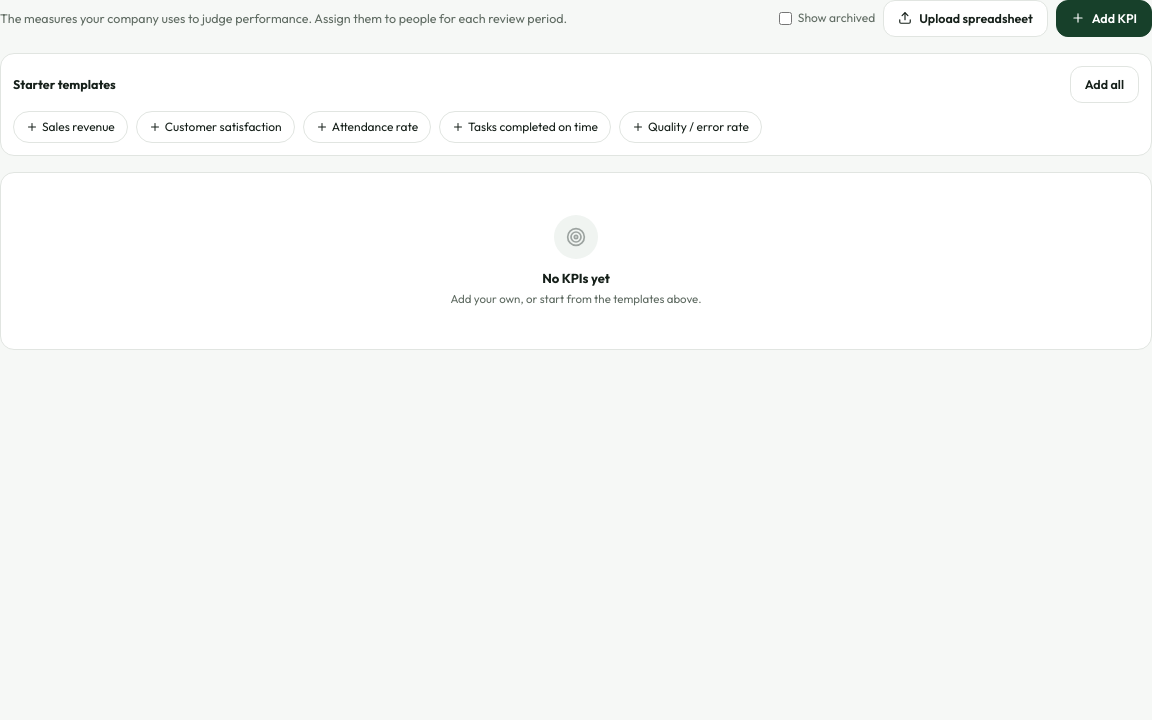
Test: KPI library › a KPI calculated from tasks takes its unit and direction from the measure
Later steps or results of the test are not shown.
Click the button "Add KPI" at (1104, 18), box left=1056, top=0, right=1151, bottom=37
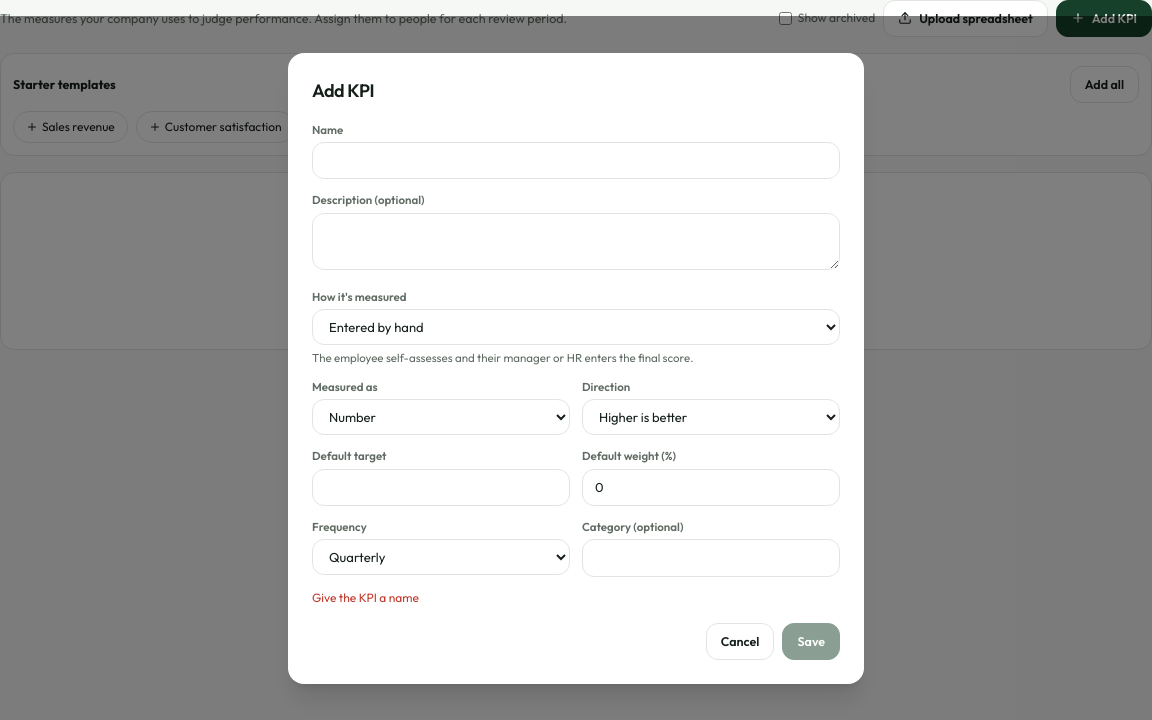
Type "Late tasks" into the field labelled "Name" at (576, 161), box left=312, top=142, right=840, bottom=179
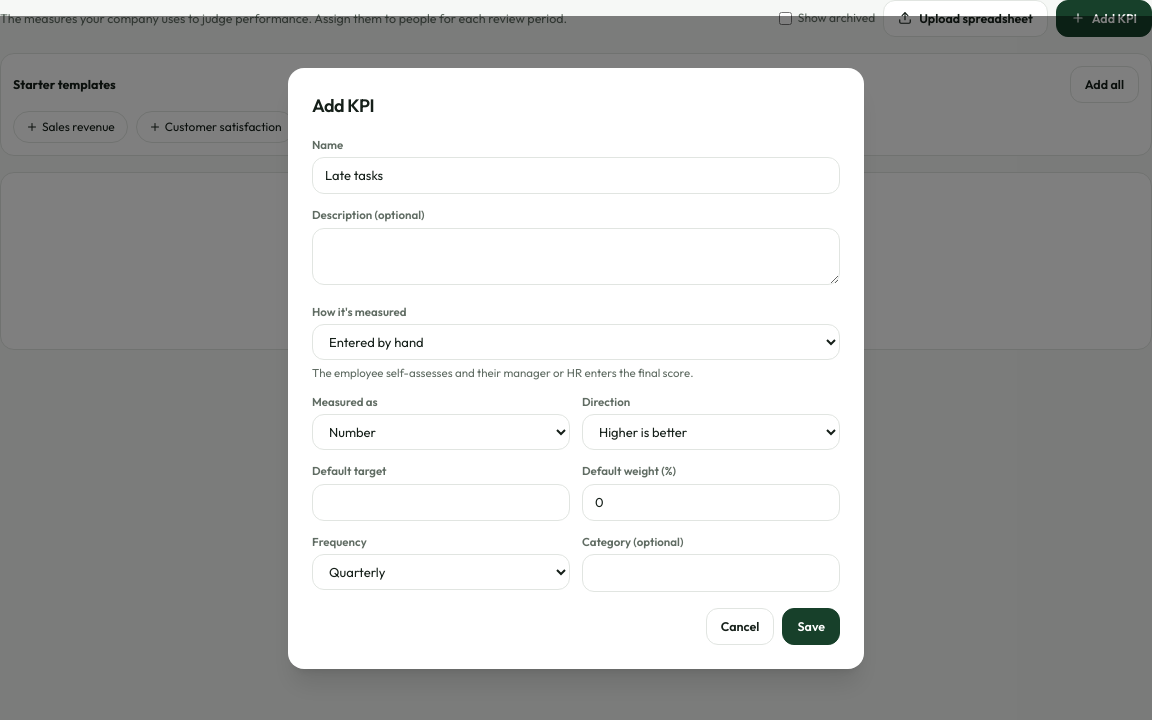
Select "Late tasks" in the dropdown labelled "How it's measured" at (576, 342), box left=312, top=324, right=840, bottom=360
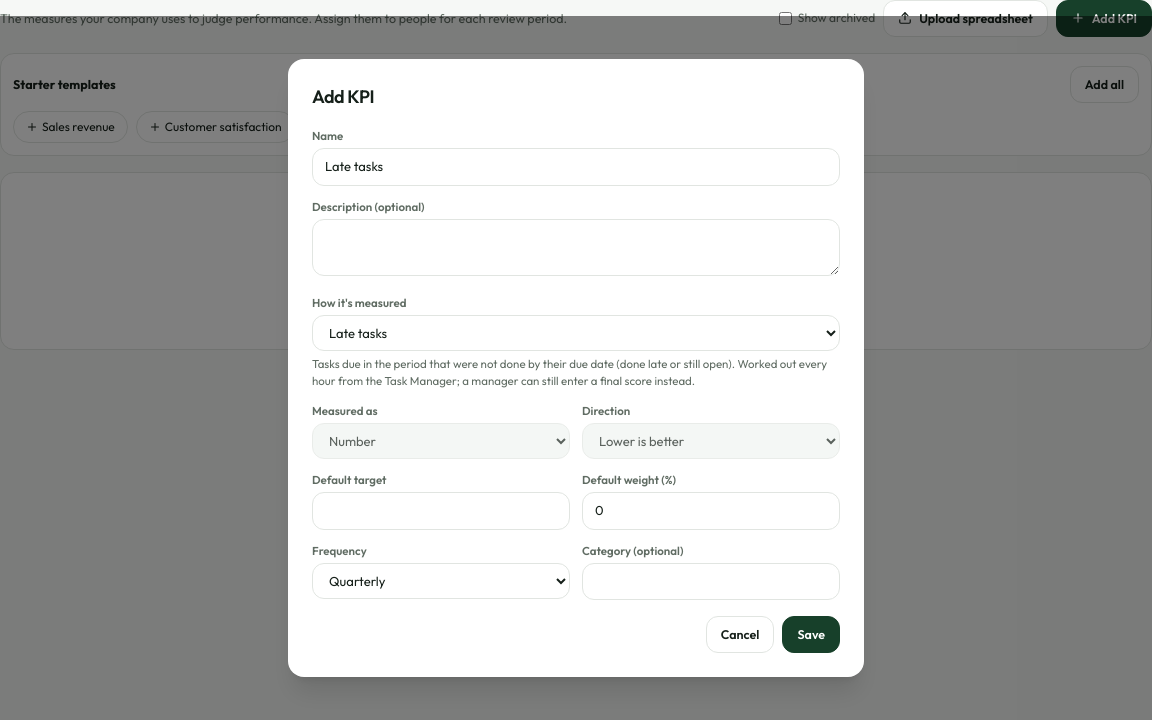
Result: the dropdown labelled "Measured as" is disabled at left=312, top=423, right=570, bottom=459
Result: the dropdown labelled "Direction" shows "Lower is better" at left=582, top=423, right=840, bottom=459
